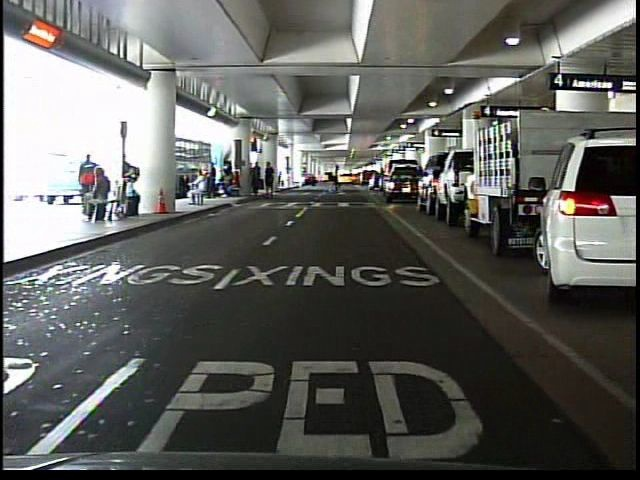person: (185, 171, 211, 208), (323, 163, 344, 196)
